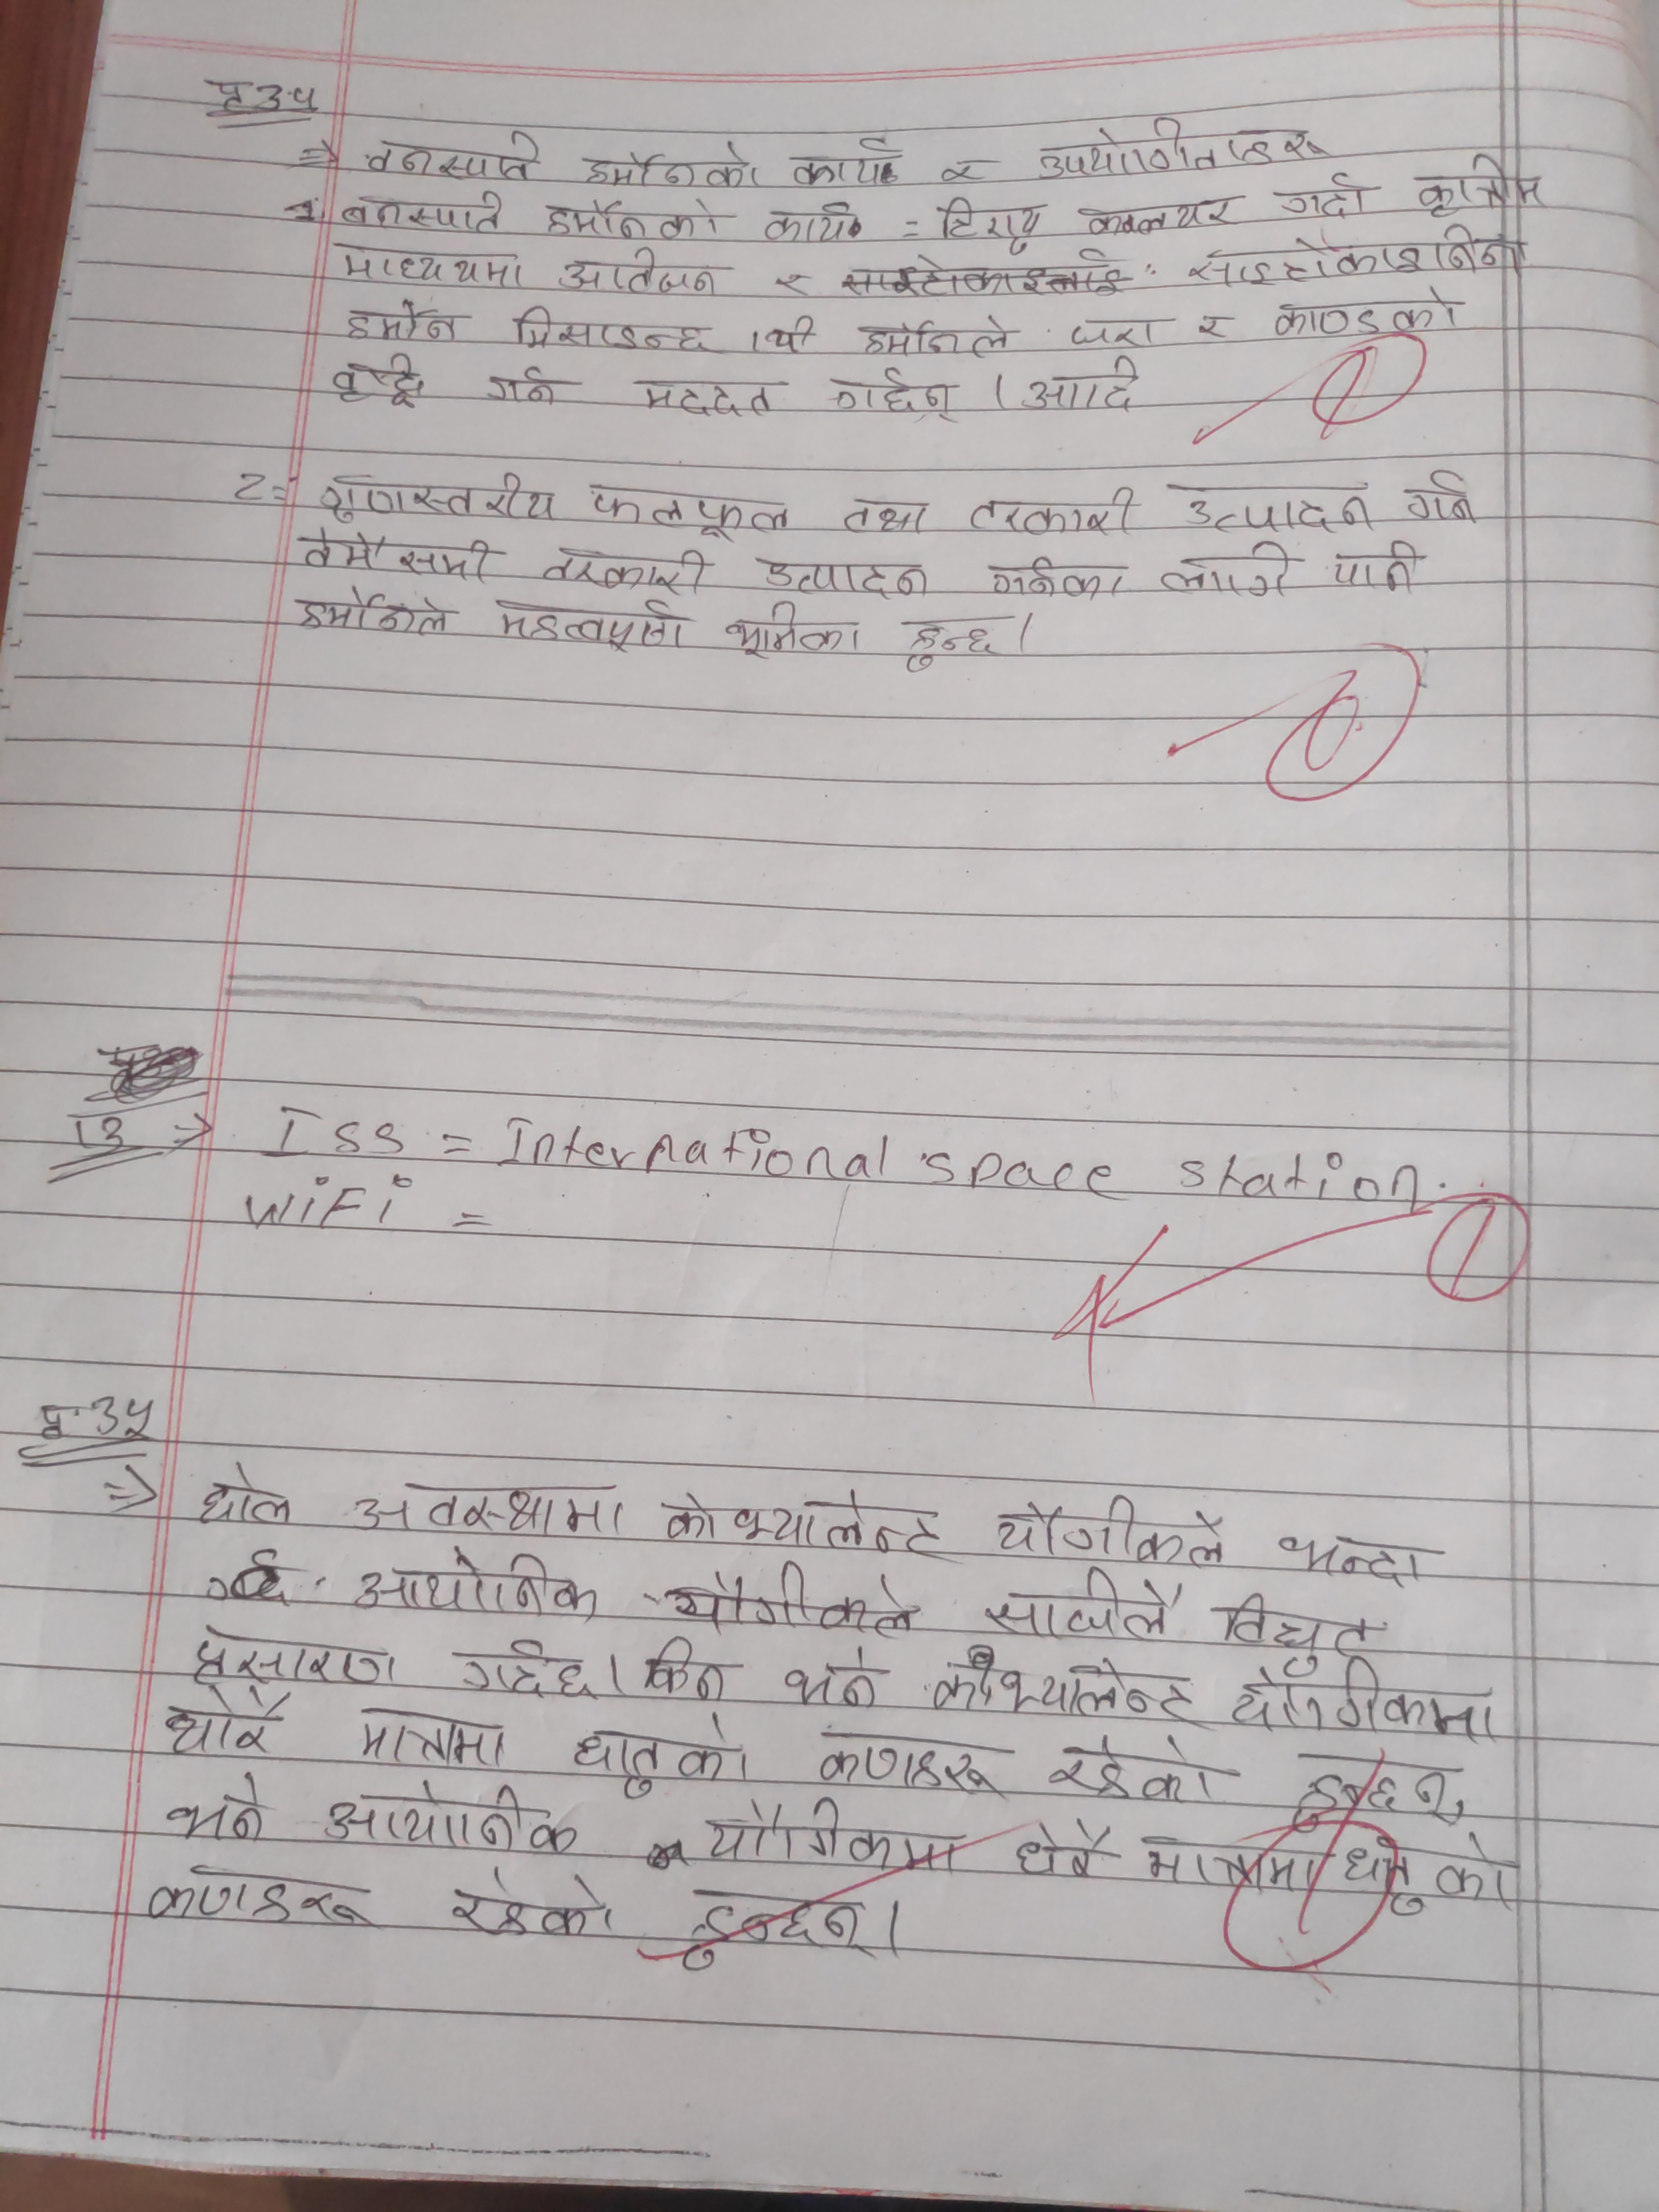text: (1227, 1658, 1495, 1743), (929, 1646, 1202, 1730), (1183, 228, 1532, 293), (662, 1482, 939, 1557), (666, 1562, 922, 1642), (701, 1797, 962, 1876), (322, 1780, 580, 1858), (350, 1477, 629, 1548), (357, 1550, 599, 1629), (985, 1496, 1232, 1571), (678, 1890, 877, 1973), (979, 1568, 1176, 1649), (573, 1714, 753, 1801), (1035, 118, 1342, 169), (148, 1867, 373, 1935), (1345, 1829, 1516, 1918), (1284, 1750, 1457, 1836), (186, 1625, 399, 1693), (817, 1728, 1012, 1801), (1044, 1731, 1220, 1808), (488, 590, 687, 657), (319, 472, 561, 524), (1222, 1590, 1366, 1677), (586, 481, 795, 540), (450, 1867, 619, 1940), (1140, 1832, 1317, 1898), (298, 529, 495, 589), (336, 235, 525, 294), (511, 305, 716, 359), (350, 1703, 509, 1773), (533, 192, 730, 246), (964, 484, 1143, 542), (1176, 482, 1373, 535), (1270, 286, 1467, 336), (368, 129, 545, 185), (1417, 150, 1553, 221), (1272, 1529, 1434, 1588), (580, 141, 770, 192), (164, 1686, 288, 1763), (756, 550, 931, 603), (293, 587, 460, 641), (450, 1637, 596, 1698), (336, 186, 511, 237), (721, 603, 863, 664), (556, 249, 725, 300), (537, 547, 711, 596), (831, 366, 962, 430), (164, 1773, 272, 1848), (1159, 538, 1290, 599), (861, 312, 1014, 361), (1014, 1818, 1119, 1890), (777, 1646, 885, 1714), (193, 1461, 293, 1533), (1023, 357, 1145, 415), (634, 1635, 737, 1703), (934, 193, 1047, 254), (981, 556, 1127, 603), (636, 376, 782, 421), (782, 136, 899, 190), (897, 611, 1002, 671), (329, 350, 429, 411), (1075, 199, 1248, 233), (343, 296, 460, 347), (1331, 545, 1424, 599), (1270, 179, 1377, 221), (1403, 470, 1483, 524), (763, 192, 845, 244), (1065, 317, 1171, 352), (483, 361, 561, 408), (843, 496, 927, 536), (765, 312, 817, 355), (936, 153, 997, 188), (772, 266, 816, 303), (1194, 312, 1230, 347)
